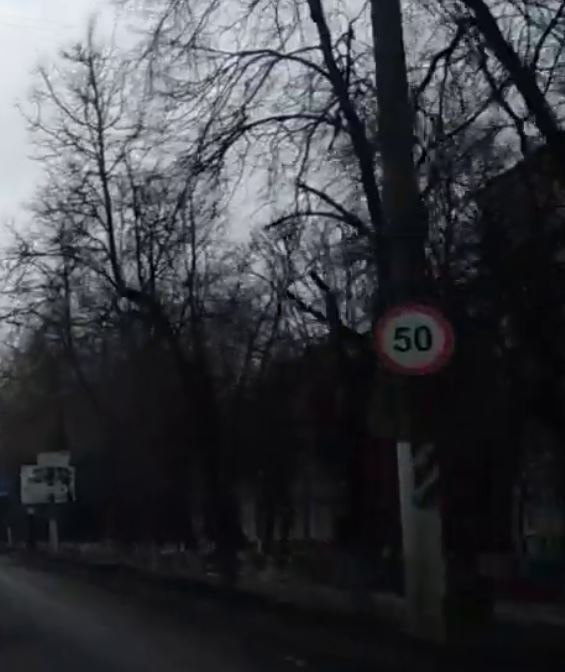50 Km Hiz Siniri: (372, 308, 457, 378)
